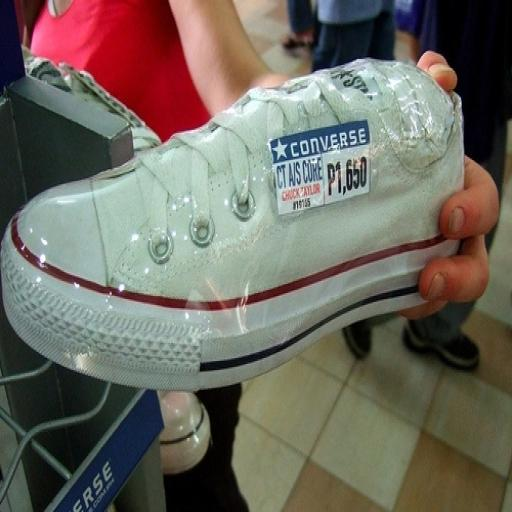shoe: (1, 60, 464, 392), (22, 47, 162, 152), (159, 391, 211, 474), (402, 322, 480, 370), (342, 320, 372, 360)
